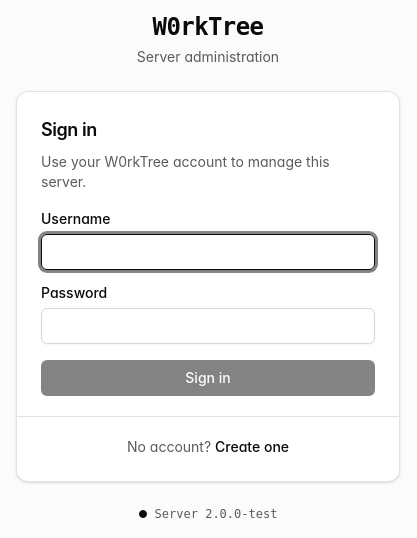
Scenario: login flow › shows the server version and keeps sign-in disabled until both fields are filled
The width and height of the screenshot is (417, 538).
Expected: the text "Server 2.0.0-test" is shown, [155,506,277,522]
Expected: the button "Sign in" is disabled, [41,360,375,396]
Type "alice" into the field labelled "Username" at (208, 252), box [41,234,375,270]
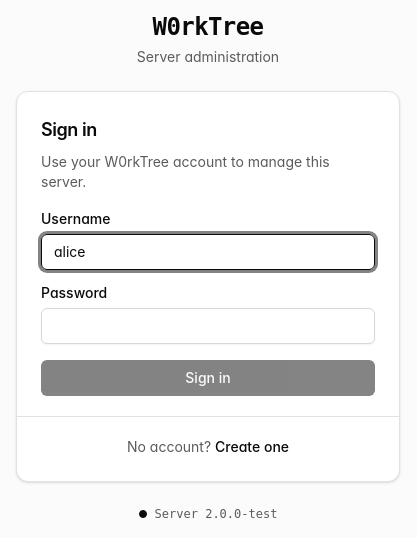
Expected: the button "Sign in" is disabled, [41,360,375,396]
Type "x" into the password field labelled "Password" at (208, 326), box [41,308,375,344]
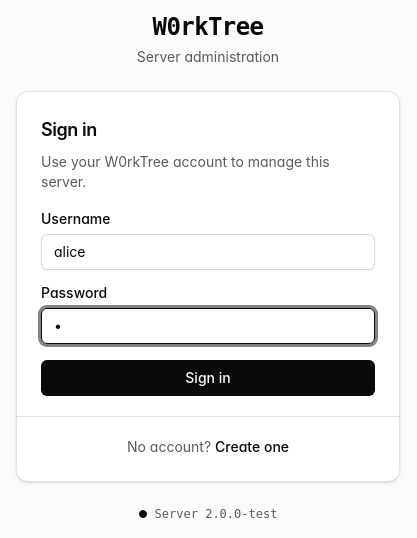
Result: the button "Sign in" is enabled at [41,360,375,396]
